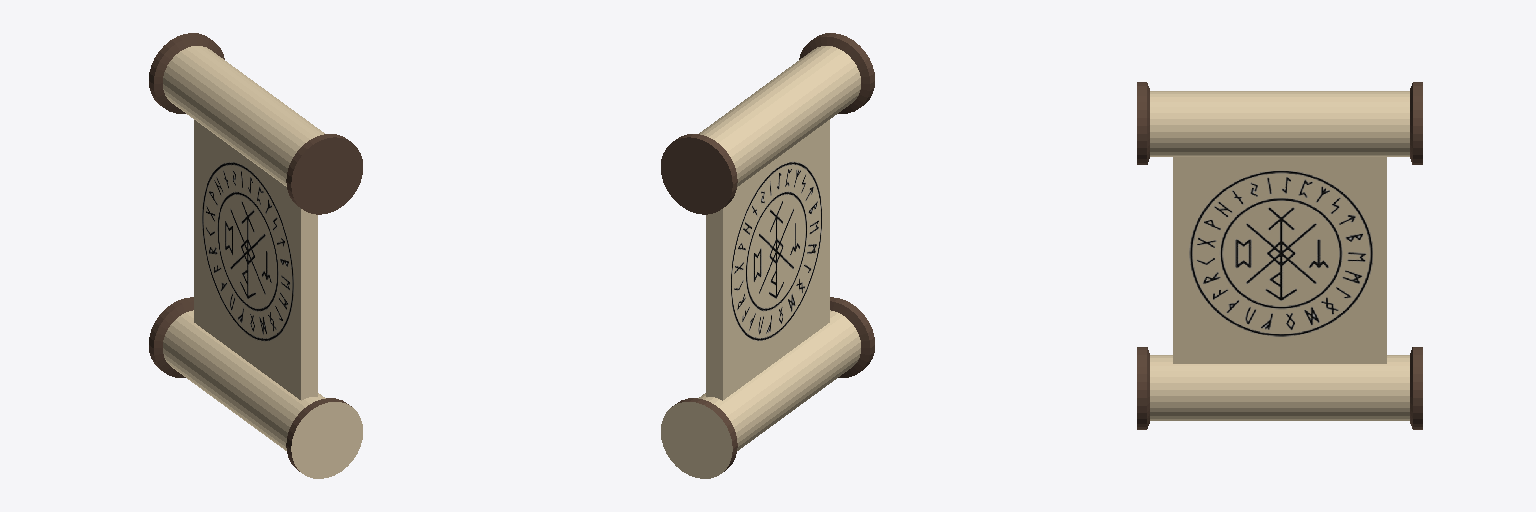
3 renders of one model, left to right at view 1: azimuth 30°, elevation 25°; view 2: azimuth 150°, elevation 25°; view 3: azimuth 270°, elevation 25°, orthographic.
Visible parts, largest first — view 1: Cube; view 2: Cube; view 3: Cube.
Boxes of the visible parts, <box> form: Cube: <box>149,33,362,478</box>; Cube: <box>661,33,874,478</box>; Cube: <box>1137,82,1422,429</box>.
Bounding box in the file's own units: 0.7783 × 3.5 × 2.66.
Materials: 1 (1 with a texture image).